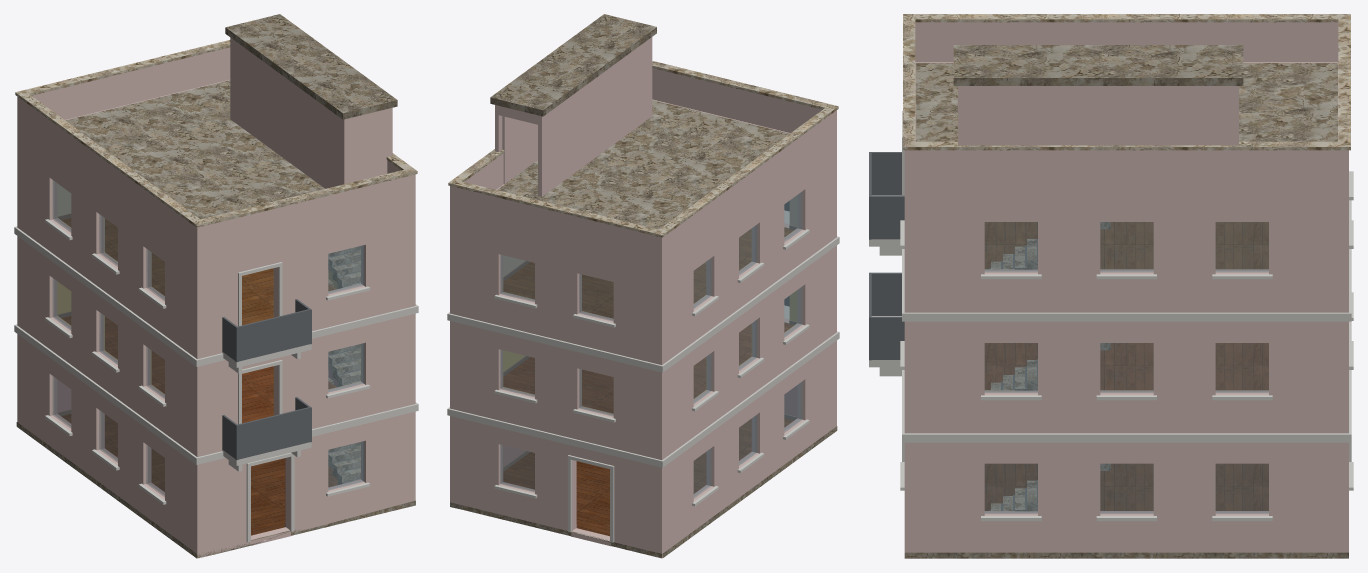
File: bay-townhouse-pink.zfix-v9.lod0.glb
The picture shows the model from 3 angles, left to right: view 1: azimuth 30°, elevation 25°; view 2: azimuth 150°, elevation 25°; view 3: azimuth 270°, elevation 25°; orthographic projection. The views are drawn at different scales.
Parts seen in each view (by area): view 1: bay-townhouse-pink; view 2: bay-townhouse-pink; view 3: bay-townhouse-pink.
Part boxes in pixels (<box>): bay-townhouse-pink: <box>14,14,418,558</box>; bay-townhouse-pink: <box>447,14,839,558</box>; bay-townhouse-pink: <box>869,14,1353,558</box>.
Size of the model in its own units: 7.2 by 11.96 by 10.91.
4 materials, 2 textured.
